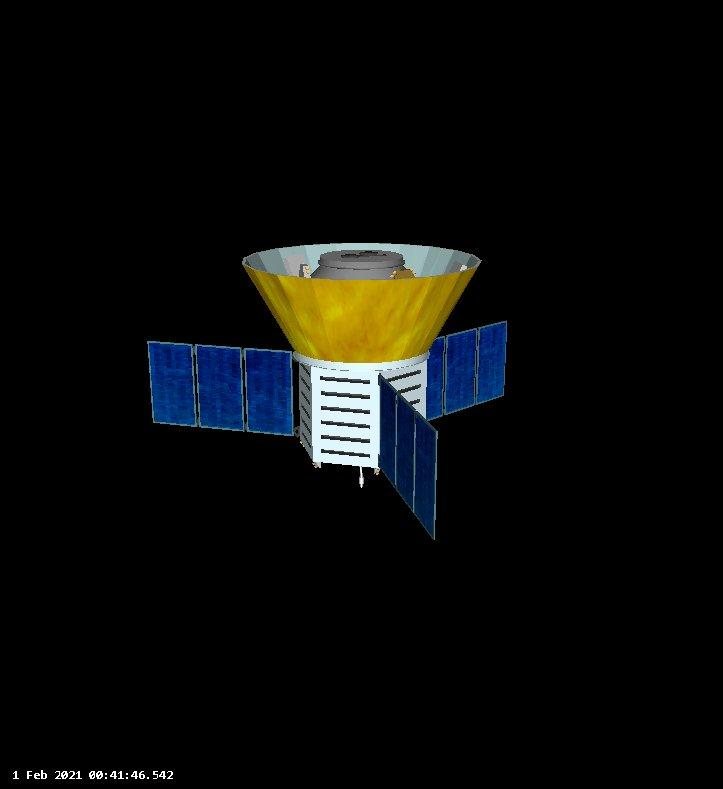body: (294, 359, 429, 472)
solar: (143, 336, 297, 441), (376, 371, 440, 544), (421, 318, 512, 426)
thruster: (242, 238, 487, 364)
